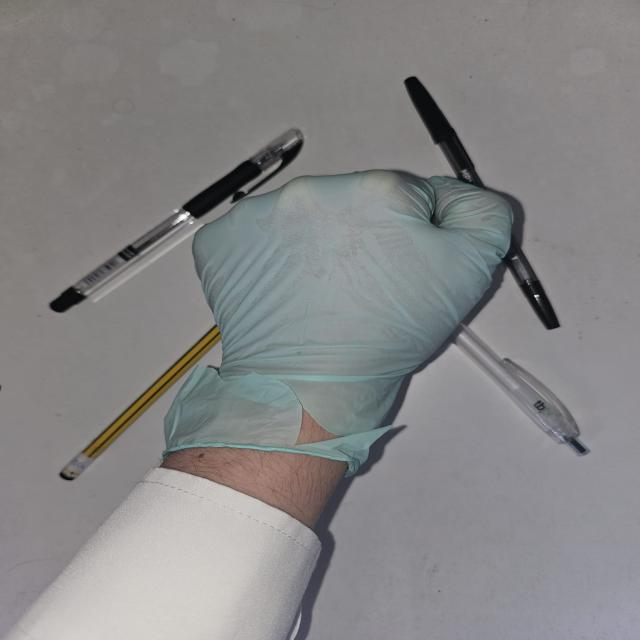gloves_damaged: (158, 168, 517, 479)
